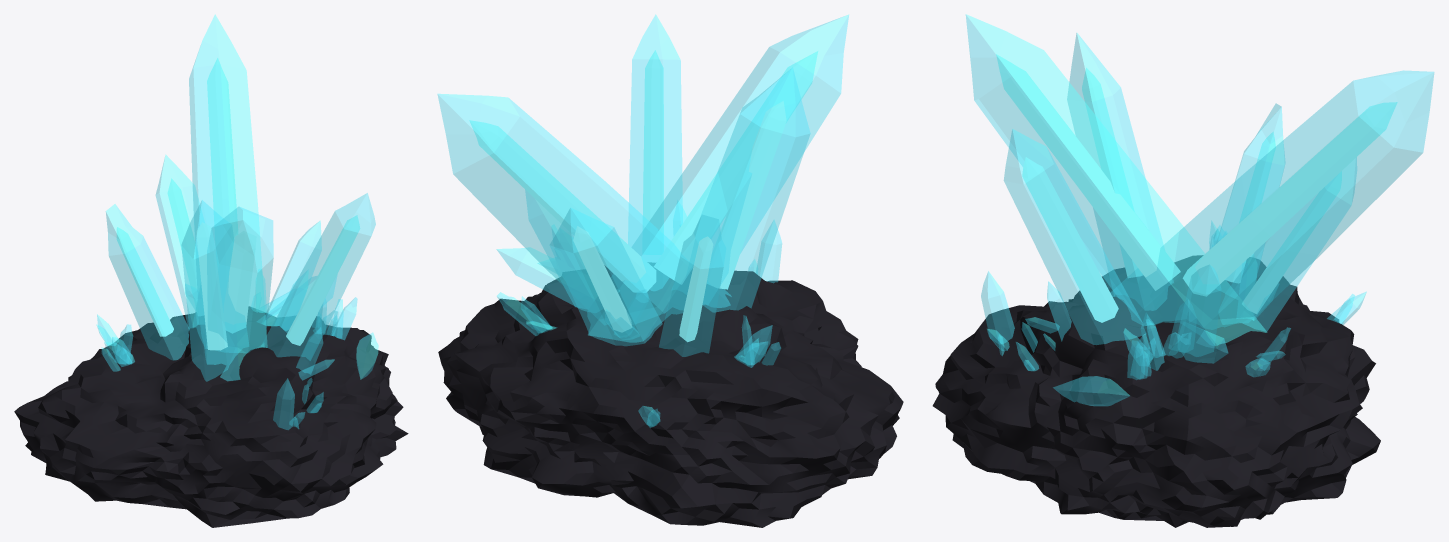
The model's file is Crystals_03_quest.glb.
3 renders of one model, left to right at view 1: azimuth 30°, elevation 25°; view 2: azimuth 150°, elevation 25°; view 3: azimuth 270°, elevation 25°, orthographic. The views are drawn at different scales.
Parts seen in each view (by area): view 1: Crystals_03_Rock, Crystals_03_Crystals, Crystals_03_Cores; view 2: Crystals_03_Rock, Crystals_03_Crystals, Crystals_03_Cores; view 3: Crystals_03_Crystals, Crystals_03_Rock, Crystals_03_Cores.
Boxes of the visible parts, x1,y1,x2,y2 form: Crystals_03_Rock: (14, 306, 408, 527); Crystals_03_Crystals: (96, 14, 378, 429); Crystals_03_Cores: (116, 58, 360, 350); Crystals_03_Rock: (438, 263, 903, 527); Crystals_03_Crystals: (437, 14, 848, 427); Crystals_03_Cores: (469, 50, 817, 341); Crystals_03_Crystals: (966, 14, 1434, 405); Crystals_03_Rock: (932, 255, 1380, 527); Crystals_03_Cores: (996, 54, 1397, 322).
Bounding box in the file's own units: 2.59 × 2.38 × 2.54.
